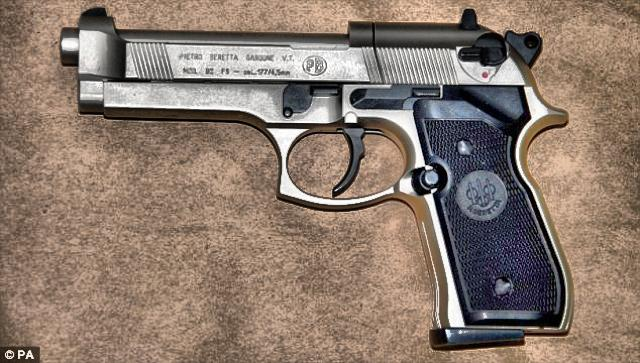pistol: (52, 4, 574, 350)
